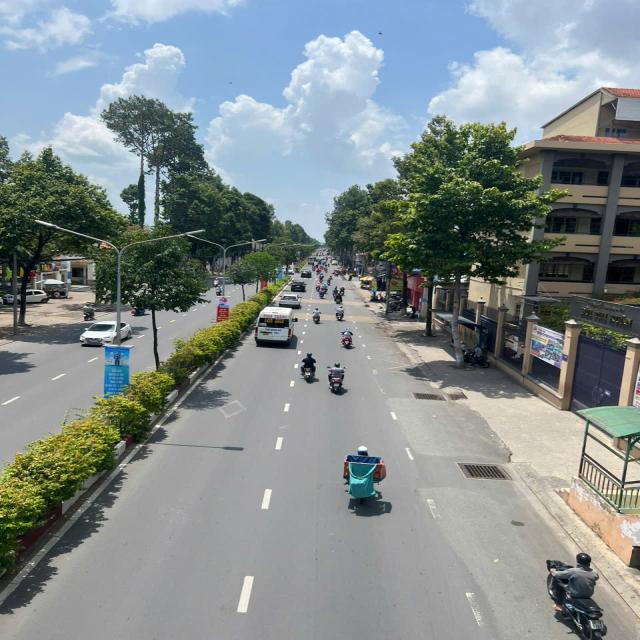car: (248, 302, 301, 348), (79, 314, 137, 351), (274, 290, 304, 310), (287, 277, 309, 294), (300, 267, 313, 280)
motobyte: (541, 549, 613, 640), (336, 443, 390, 505), (296, 349, 322, 385), (324, 361, 350, 395), (78, 298, 101, 322), (336, 326, 356, 352), (310, 305, 325, 326), (334, 303, 346, 323)
